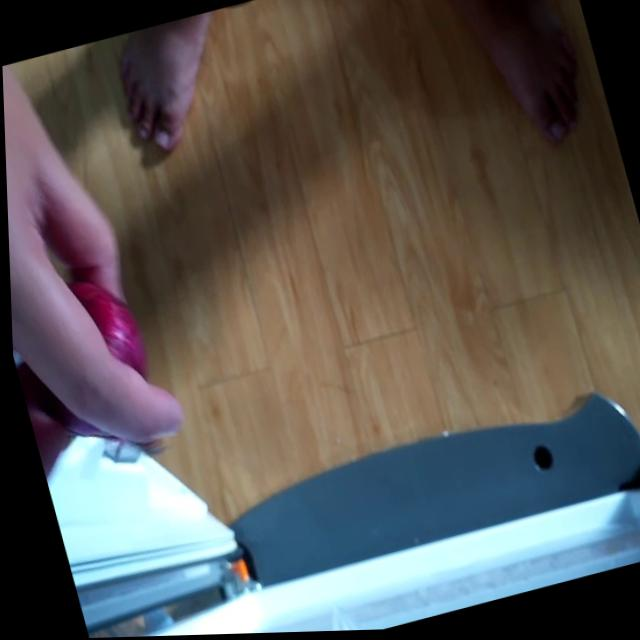onion: (9, 263, 161, 454)
